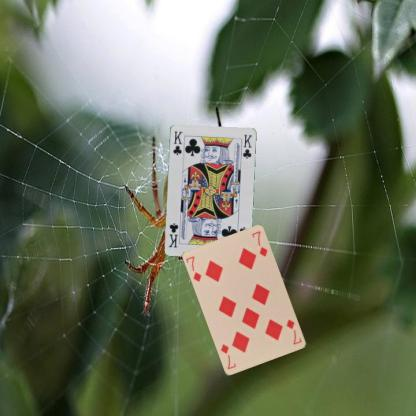7d: (284, 317, 303, 346), (184, 254, 203, 283)
Kc: (170, 129, 184, 156)
